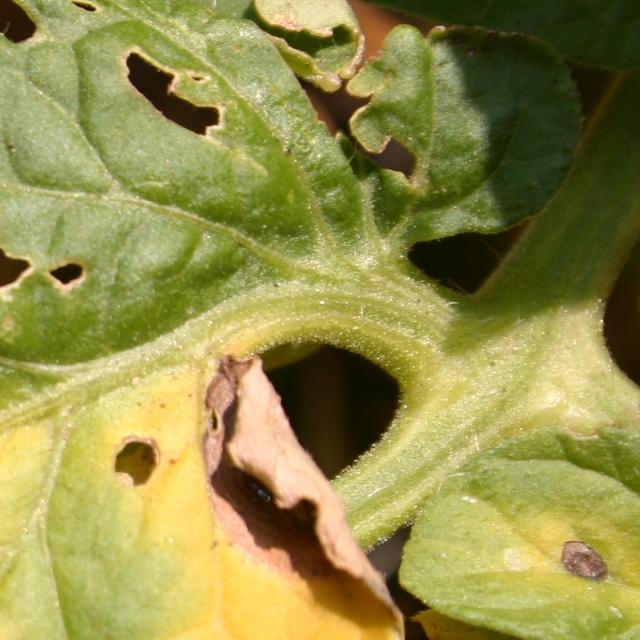Tomato Early blight leaf: (0, 25, 292, 640)
